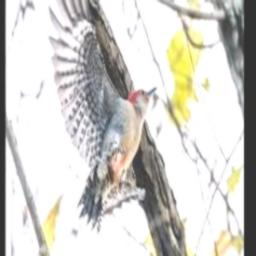Woodpecker: (48, 0, 156, 232)
